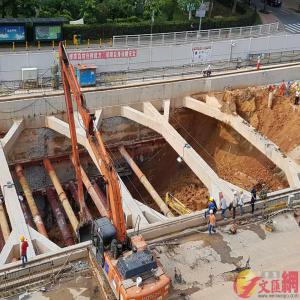blue: (260, 55, 263, 59), (288, 81, 291, 85), (283, 79, 285, 83)
red: (251, 184, 255, 190), (220, 195, 224, 200), (263, 184, 266, 190)
white: (210, 210, 214, 216), (234, 191, 238, 197), (209, 65, 212, 69), (206, 69, 208, 73)
yellow: (21, 236, 26, 244), (210, 198, 214, 204), (241, 190, 244, 195), (298, 88, 300, 94)
